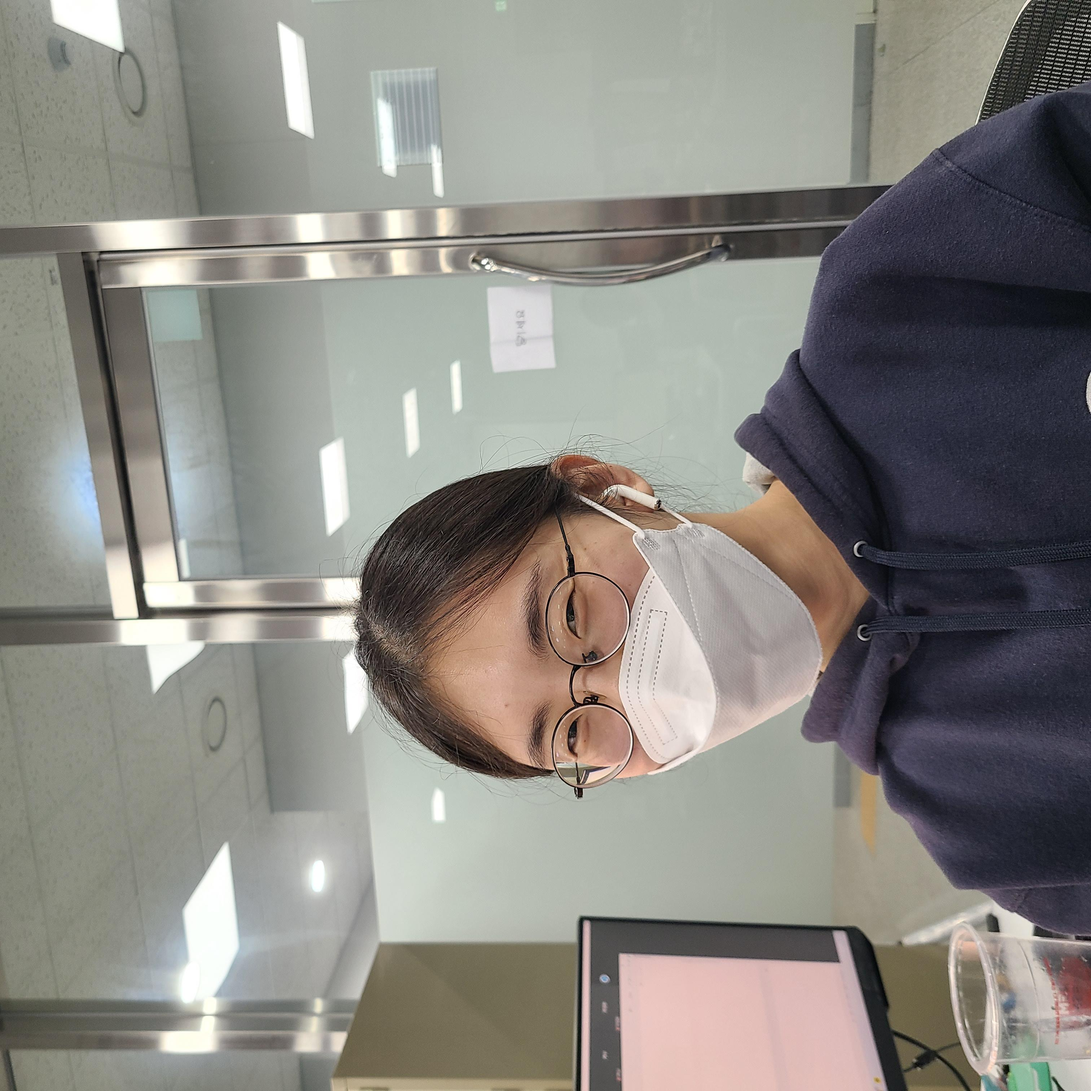earphone: (571, 596, 618, 666)
